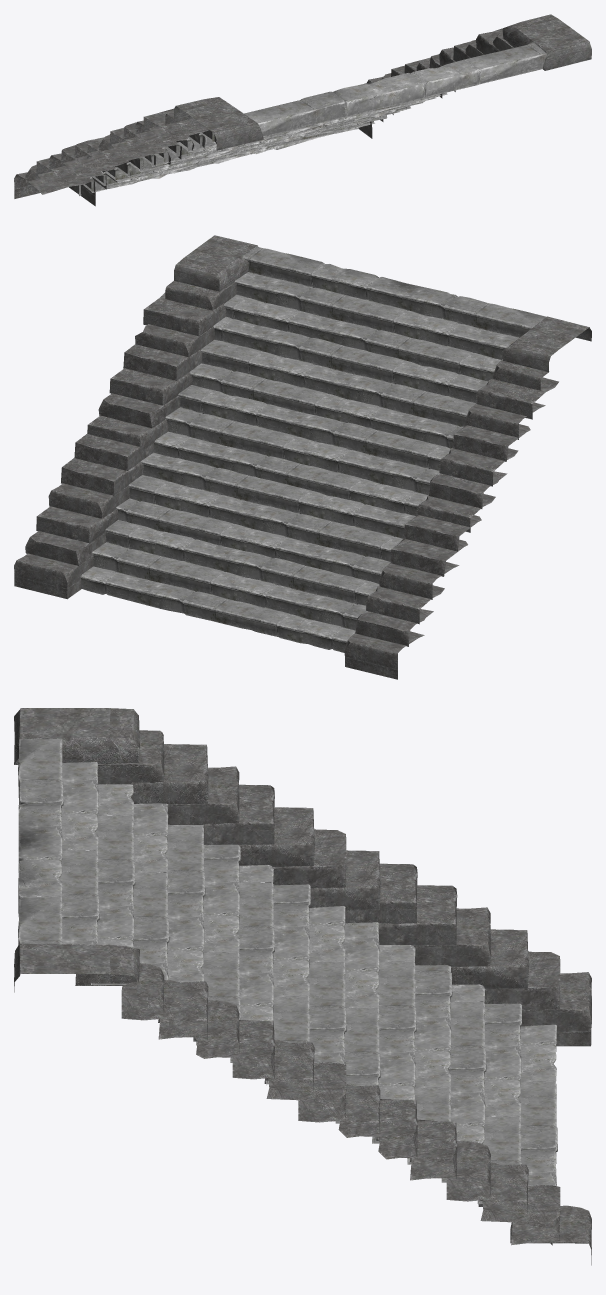
3 renders of one model, top to bottom at view 1: azimuth 30°, elevation 25°; view 2: azimuth 150°, elevation 25°; view 3: azimuth 270°, elevation 25°, orthographic. The views are drawn at different scales.
Parts seen in each view (by area): view 1: SM_Steps02_LOD0; view 2: SM_Steps02_LOD0; view 3: SM_Steps02_LOD0.
Part boxes in pixels (x1,y1,x2,y2): SM_Steps02_LOD0: (14,14,591,206); SM_Steps02_LOD0: (14,235,591,679); SM_Steps02_LOD0: (14,708,591,1265).
Bounding box in the file's own units: 8.28 × 4.23 × 7.29.
2 materials, 2 textured.
